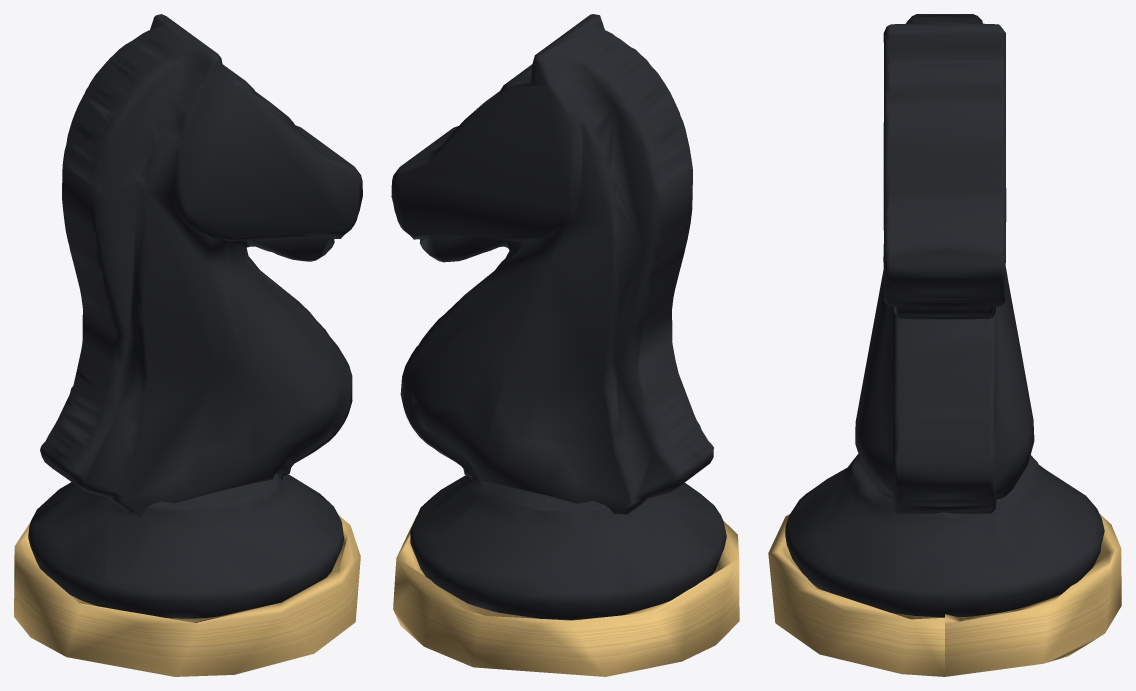
Rendered from aurum_knight_black.glb.
The picture shows the model from 3 angles, left to right: view 1: azimuth 30°, elevation 25°; view 2: azimuth 150°, elevation 25°; view 3: azimuth 270°, elevation 25°; orthographic projection.
Parts seen in each view (by area): view 1: Aurum Noir – Knight; view 2: Aurum Noir – Knight; view 3: Aurum Noir – Knight.
Boxes of the visible parts, x1=… form: Aurum Noir – Knight: x1=14, y1=14, x2=362, y2=676; Aurum Noir – Knight: x1=391, y1=14, x2=739, y2=676; Aurum Noir – Knight: x1=768, y1=14, x2=1121, y2=676.
Bounding box in the file's own units: 0.0416 × 0.0749 × 0.0415.
2 materials, 1 textured.
